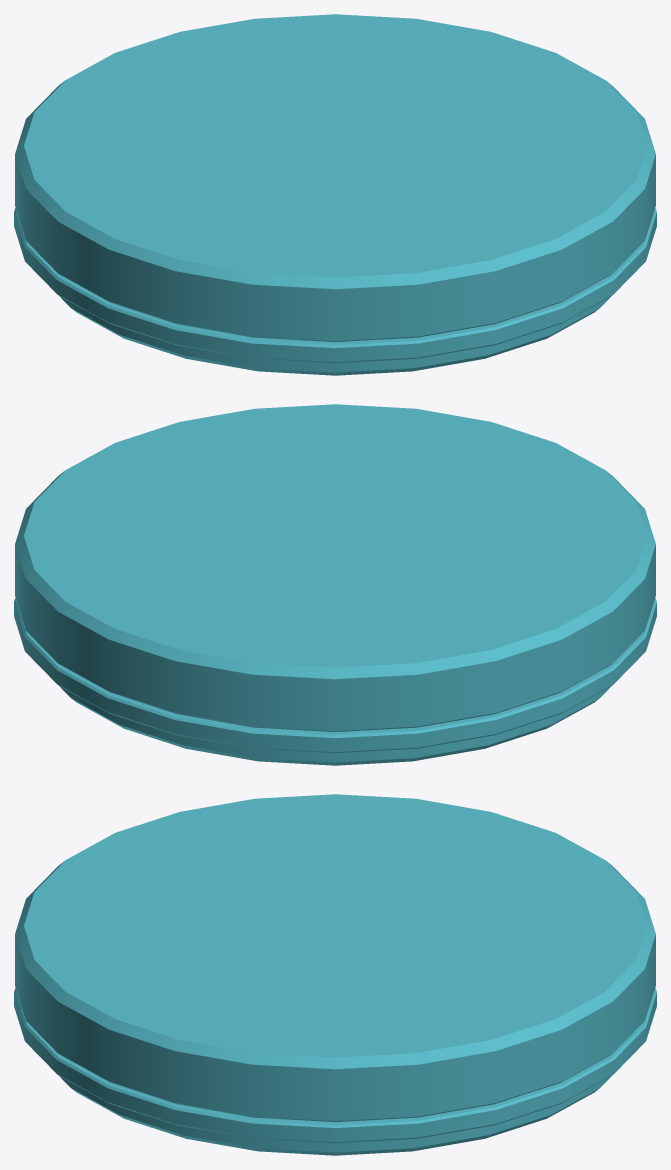
File: petri.FBX
3 views of the same model, one above another, from view 1: azimuth 30°, elevation 25°; view 2: azimuth 150°, elevation 25°; view 3: azimuth 270°, elevation 25° (orthographic).
Visible parts, largest first — view 1: petri-cap, petri; view 2: petri-cap, petri; view 3: petri-cap, petri.
Part boxes in pixels (box(x1,y1,x2,y2)): petri-cap: box(15, 14, 655, 342); petri: box(14, 208, 656, 375); petri-cap: box(15, 404, 655, 732); petri: box(14, 598, 656, 765); petri-cap: box(15, 794, 655, 1122); petri: box(14, 988, 656, 1155).
Size of the model in its own units: 0.0596 by 0.0106 by 0.0596.
